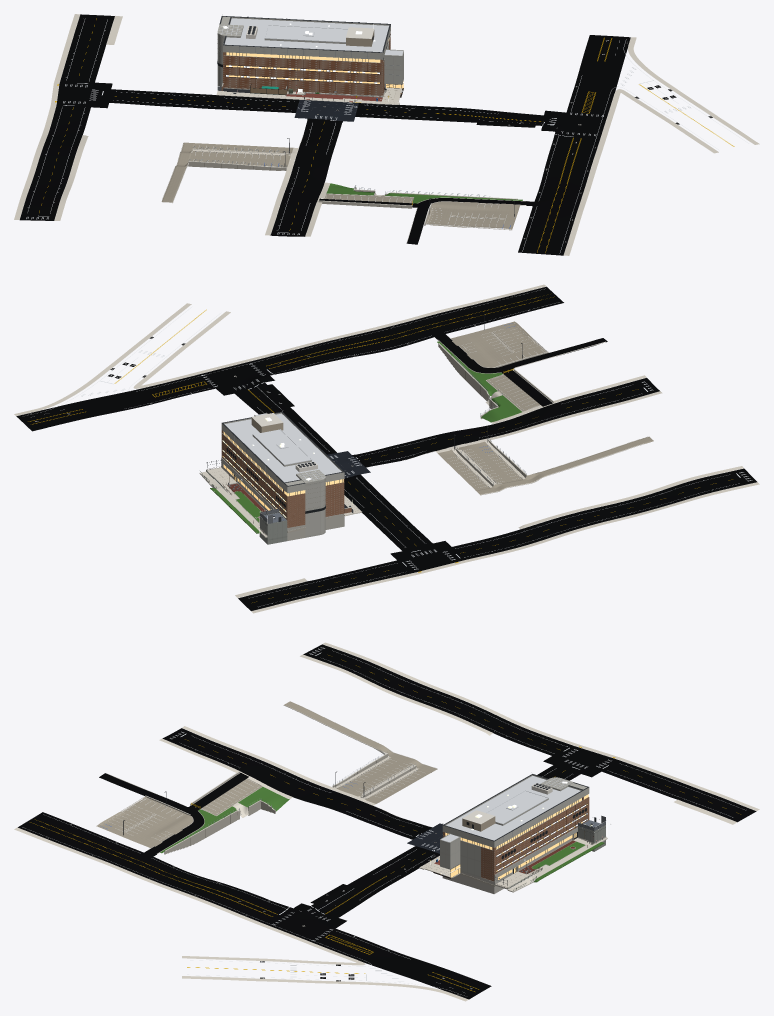
File: regional-jail-east.glb
The picture shows the model from 3 angles, top to bottom: view 1: azimuth 30°, elevation 25°; view 2: azimuth 150°, elevation 25°; view 3: azimuth 270°, elevation 25°; orthographic projection. The views are drawn at different scales.
Visible parts, largest first — view 1: node_78, node_80, node_102, node_4, node_16, node_82, node_15, node_17, node_83, node_79, node_108, node_81 (+8 smaller); view 2: node_78, node_80, node_102, node_16, node_15, node_82, node_4, node_79, node_112, node_51, node_81, node_108 (+7 smaller); view 3: node_78, node_80, node_102, node_16, node_15, node_4, node_82, node_79, node_108, node_51, node_112, node_17 (+4 smaller).
Part boxes in pixels (x1,y1,x2,y2): node_78: [20, 14, 630, 255]; node_80: [14, 14, 759, 255]; node_102: [161, 142, 520, 229]; node_4: [223, 36, 390, 95]; node_16: [218, 18, 403, 55]; node_82: [26, 18, 748, 253]; node_15: [217, 16, 403, 88]; node_17: [217, 17, 403, 56]; node_83: [294, 100, 358, 121]; node_79: [19, 14, 754, 254]; node_108: [188, 149, 517, 225]; node_81: [39, 18, 734, 252]; node_78: [16, 286, 756, 610]; node_80: [14, 284, 759, 613]; node_102: [438, 321, 653, 495]; node_16: [224, 413, 341, 482]; node_15: [221, 416, 344, 537]; node_82: [27, 288, 752, 607]; node_4: [221, 433, 344, 516]; node_79: [17, 286, 756, 611]; node_112: [437, 341, 521, 422]; node_51: [199, 467, 361, 537]; node_81: [28, 296, 732, 602]; node_108: [438, 344, 553, 486]; node_78: [18, 644, 756, 999]; node_80: [14, 642, 759, 1001]; node_102: [96, 701, 437, 848]; node_16: [441, 776, 580, 842]; node_15: [440, 783, 589, 878]; node_4: [443, 800, 583, 881]; node_82: [22, 647, 745, 995]; node_79: [17, 644, 756, 999]; node_108: [145, 754, 416, 854]; node_51: [420, 837, 607, 892]; node_112: [160, 787, 289, 853]; node_17: [440, 775, 584, 884].
Size of the model in its own units: 319 by 30.85 by 315.
81 materials, 23 textured.
